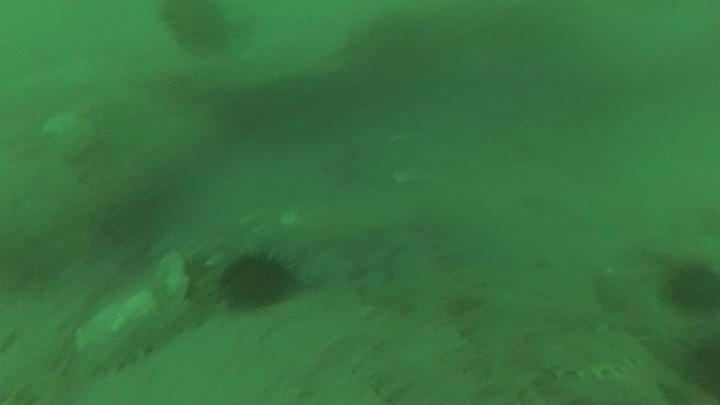echinus: (215, 246, 300, 313), (92, 190, 165, 255), (157, 1, 232, 58), (660, 257, 720, 316), (676, 332, 720, 401)
holothurian: (81, 297, 213, 377), (538, 328, 650, 384)
starfish: (655, 376, 717, 404)
